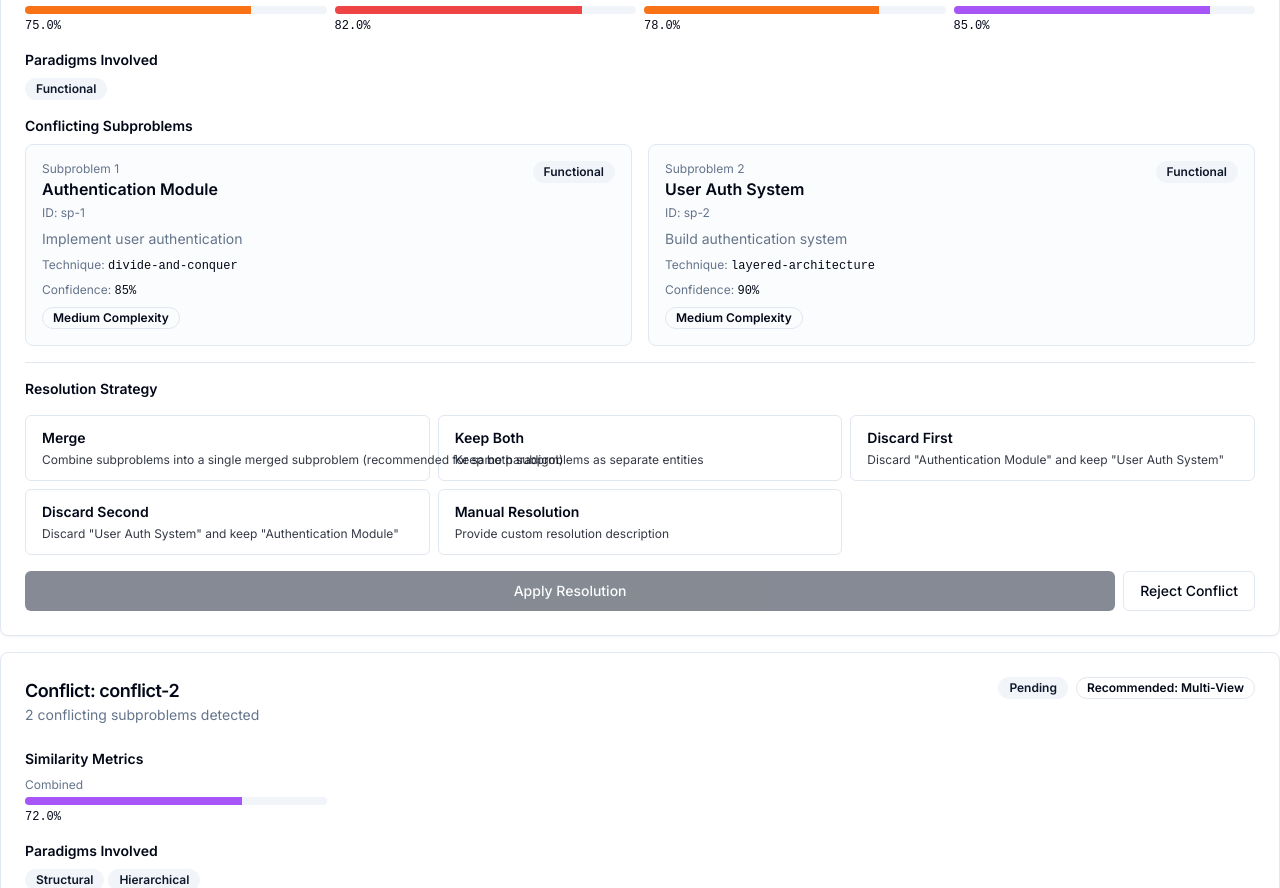
Test: IntegrationConflictViewer › allows selecting a resolution strategy
(page scrolled)
Click the text "Merge": (64, 438) left=42, top=429, right=86, bottom=446
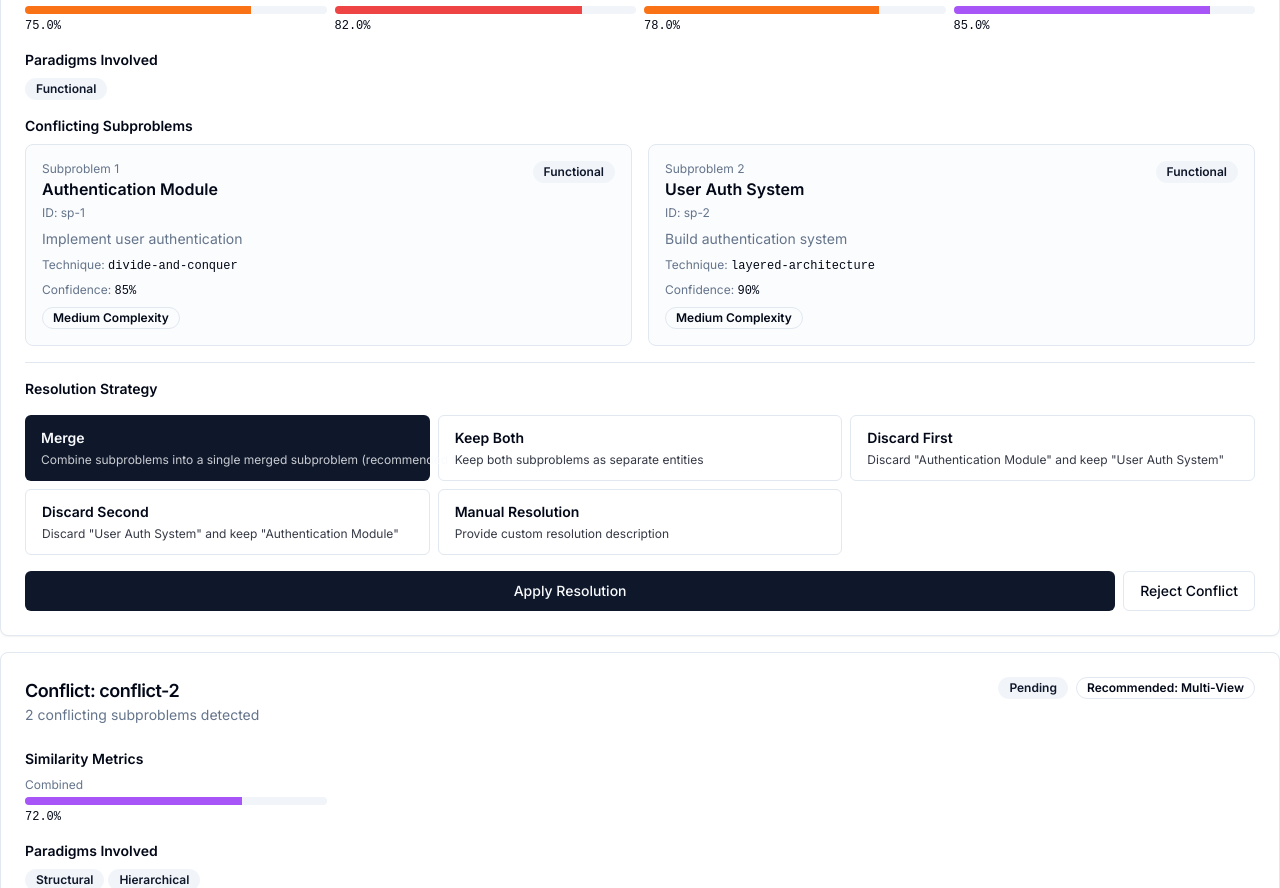
Result: the button "Apply Resolution" is enabled at left=25, top=571, right=1115, bottom=611
